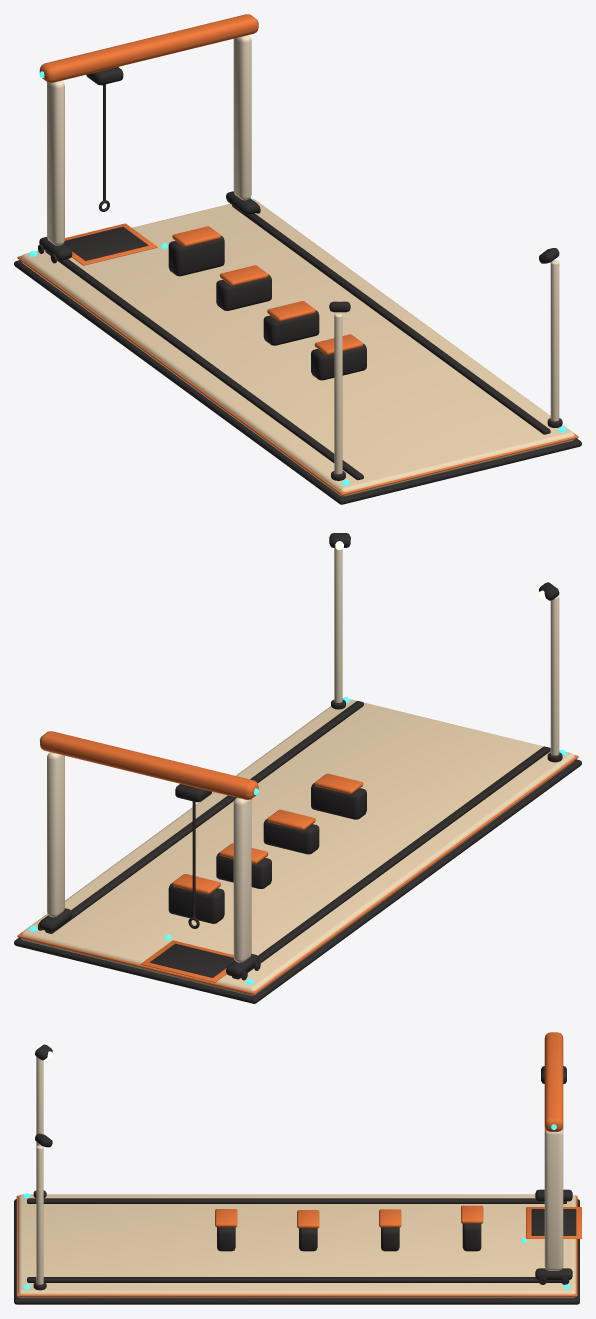
Rendered from dock-0.glb.
3 views of the same model, one above another, from view 1: azimuth 30°, elevation 25°; view 2: azimuth 150°, elevation 25°; view 3: azimuth 270°, elevation 25° (orthographic). The views are drawn at different scales.
Parts seen in each view (by area): view 1: Cube.001, Cube, Cube.002, Cube.016; view 2: Cube.001, Cube, Cube.002, Cube.016; view 3: Cube.001, Cube, Cube.002, Cube.016.
Part boxes in pixels (x1,y1,x2,y2): Cube.001: (21,199,574,496); Cube: (14,67,581,504); Cube.002: (17,14,578,495); Cube.016: (47,35,559,474); Cube.001: (21,698,574,995); Cube: (14,533,581,1003); Cube.002: (17,731,578,994); Cube.016: (47,548,559,962); Cube.001: (18,1194,575,1298); Cube: (14,1044,579,1304); Cube.002: (16,1032,581,1296); Cube.016: (36,1057,563,1284).
Size of the model in its own units: 1.3 by 1.06 by 3.05.
